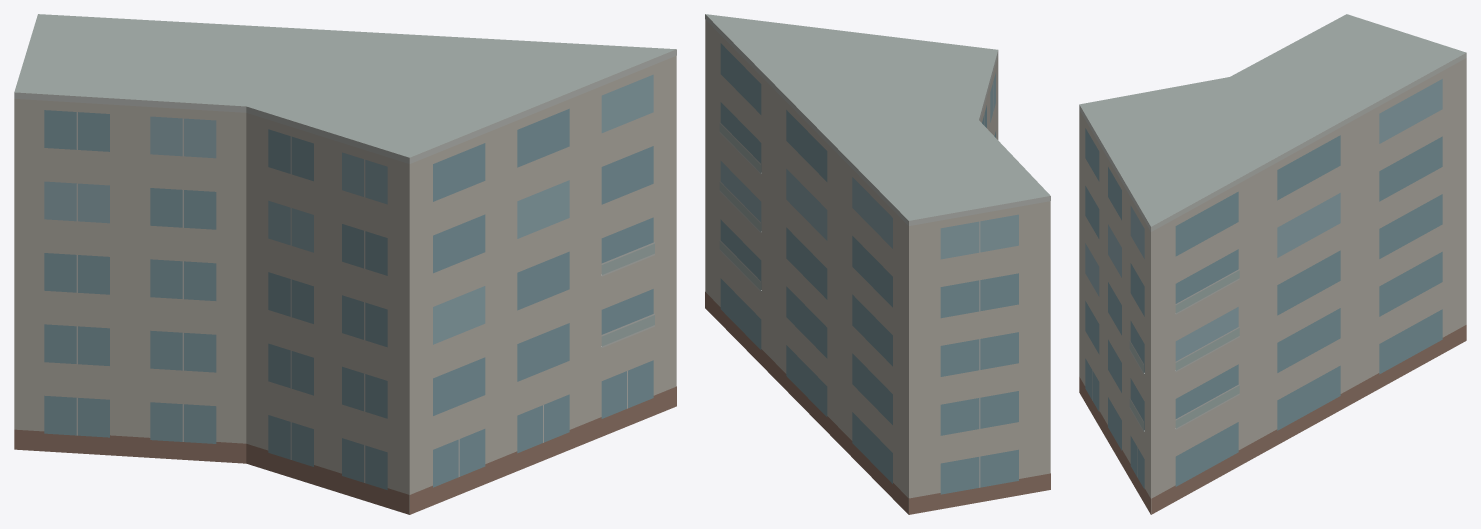
The model's file is survey-upis-32578389.glb.
3 views of the same model, side by side, from view 1: azimuth 30°, elevation 25°; view 2: azimuth 150°, elevation 25°; view 3: azimuth 270°, elevation 25° (orthographic). The views are drawn at different scales.
Visible parts, largest first — view 1: survey-upis-32578389.tmp; view 2: survey-upis-32578389.tmp; view 3: survey-upis-32578389.tmp.
Part boxes in pixels (<box>): survey-upis-32578389.tmp: <box>14,14,676,514</box>; survey-upis-32578389.tmp: <box>705,14,1050,514</box>; survey-upis-32578389.tmp: <box>1079,14,1466,514</box>.
Size of the model in its own units: 21.66 by 13.65 by 16.65.
